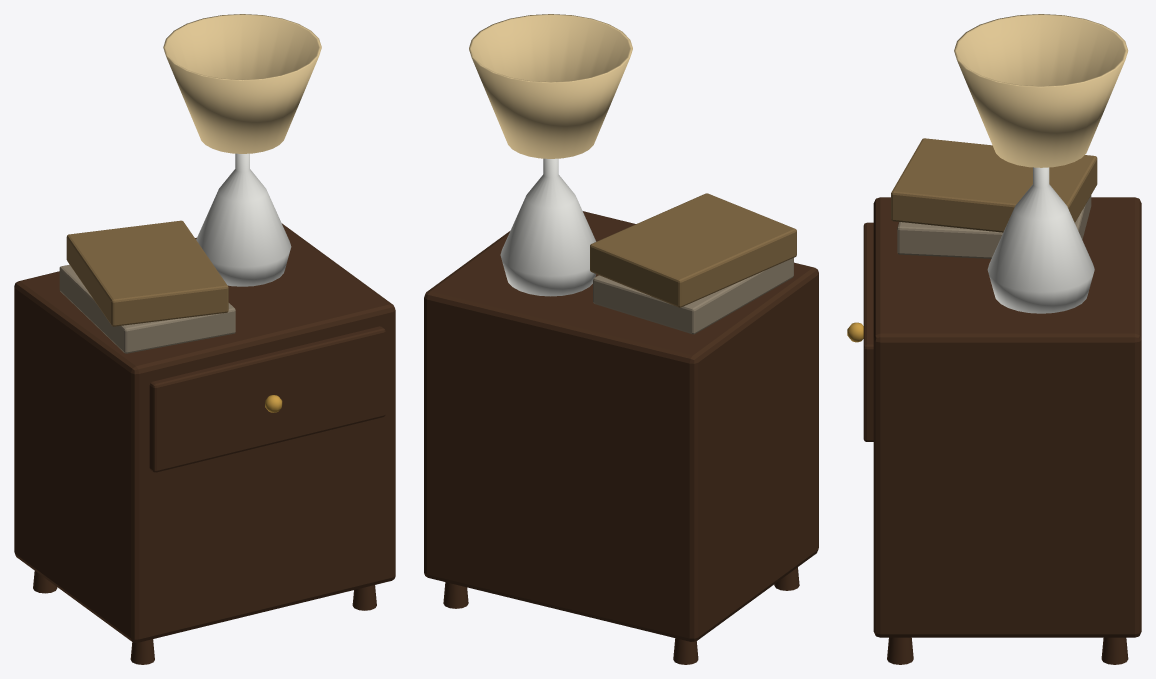
File: nightstand.glb
3 views of the same model, side by side, from view 1: azimuth 30°, elevation 25°; view 2: azimuth 150°, elevation 25°; view 3: azimuth 270°, elevation 25° (orthographic). The views are drawn at different scales.
Parts seen in each view (by area): view 1: nightstand; view 2: nightstand; view 3: nightstand.
Boxes of the visible parts, x1,y1,x2,y2 form: nightstand: (14, 14, 395, 664); nightstand: (424, 14, 818, 664); nightstand: (847, 14, 1141, 664).
Size of the model in its own units: 0.5 by 0.95 by 0.4393.
